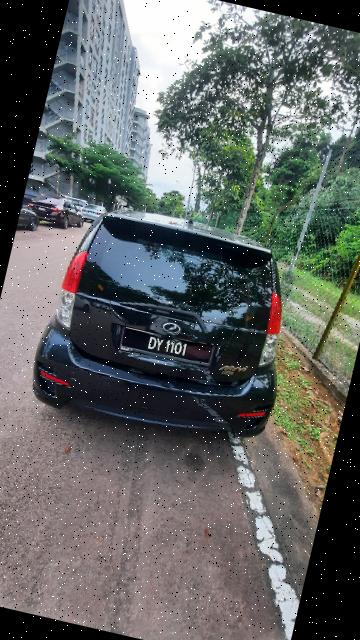License_Plate: (111, 319, 222, 375)
car: (27, 192, 312, 465)
